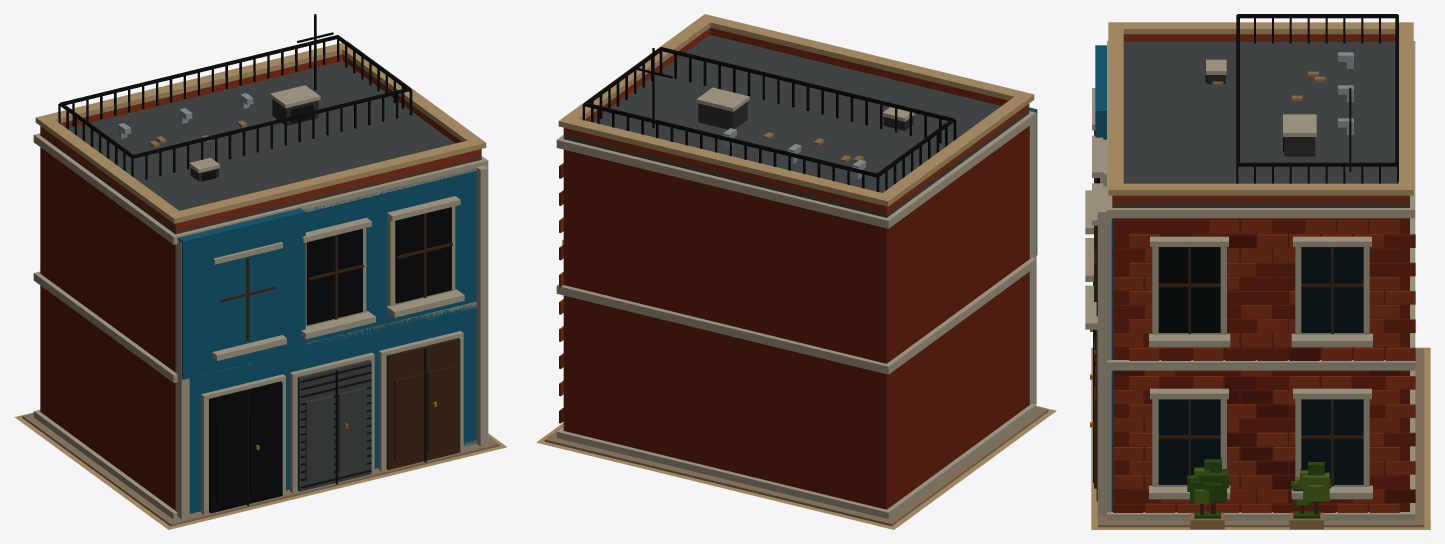
The model's file is SM_Mapa_031.fbx.
The picture shows the model from 3 angles, left to right: view 1: azimuth 30°, elevation 25°; view 2: azimuth 150°, elevation 25°; view 3: azimuth 270°, elevation 25°; orthographic projection. The views are drawn at different scales.
Visible parts, largest first — view 1: SM_Mapa_031; view 2: SM_Mapa_031; view 3: SM_Mapa_031.
Part boxes in pixels (left/top/right/bottom): SM_Mapa_031: left=14, top=14, right=506, bottom=529; SM_Mapa_031: left=536, top=14, right=1056, bottom=529; SM_Mapa_031: left=1085, top=14, right=1430, bottom=529.
Bounding box in the file's own units: 8 × 6.31 × 8.09.
